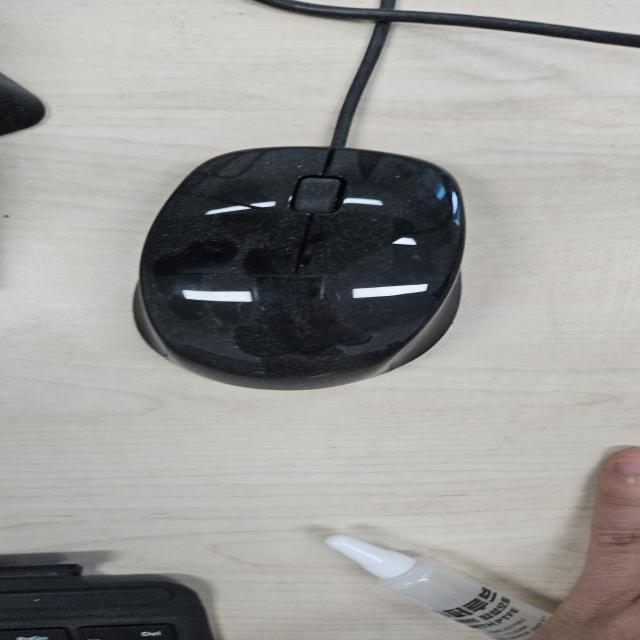Keyboard: (1, 561, 217, 639)
Mouse: (130, 144, 470, 391)
